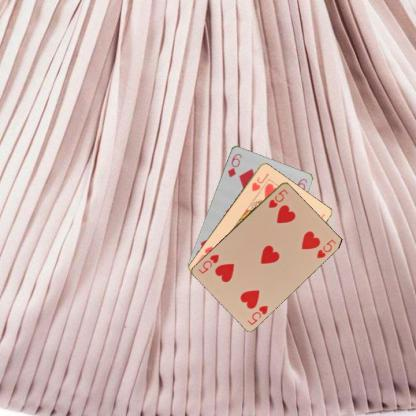5h: (245, 302, 269, 326), (266, 186, 289, 209)
6d: (224, 151, 242, 178)
Jh: (249, 170, 270, 192)
